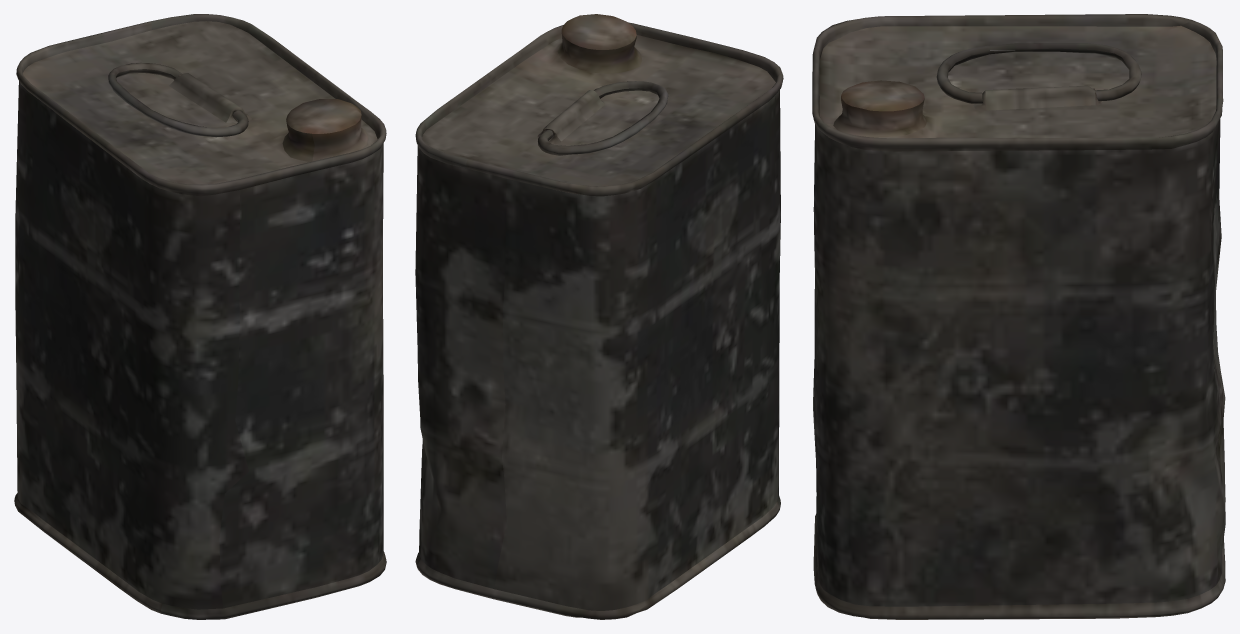
File: oil_tin.glb
3 views of the same model, side by side, from view 1: azimuth 30°, elevation 25°; view 2: azimuth 150°, elevation 25°; view 3: azimuth 270°, elevation 25° (orthographic). The views are drawn at different scales.
Visible parts, largest first — view 1: oil_tin; view 2: oil_tin; view 3: oil_tin.
Part boxes in pixels (x1,y1,x2,y2): oil_tin: (14, 14, 386, 619); oil_tin: (415, 14, 783, 619); oil_tin: (812, 14, 1225, 619).
Bounding box in the file's own units: 0.1147 × 0.2054 × 0.1536.
1 material, 1 textured.
